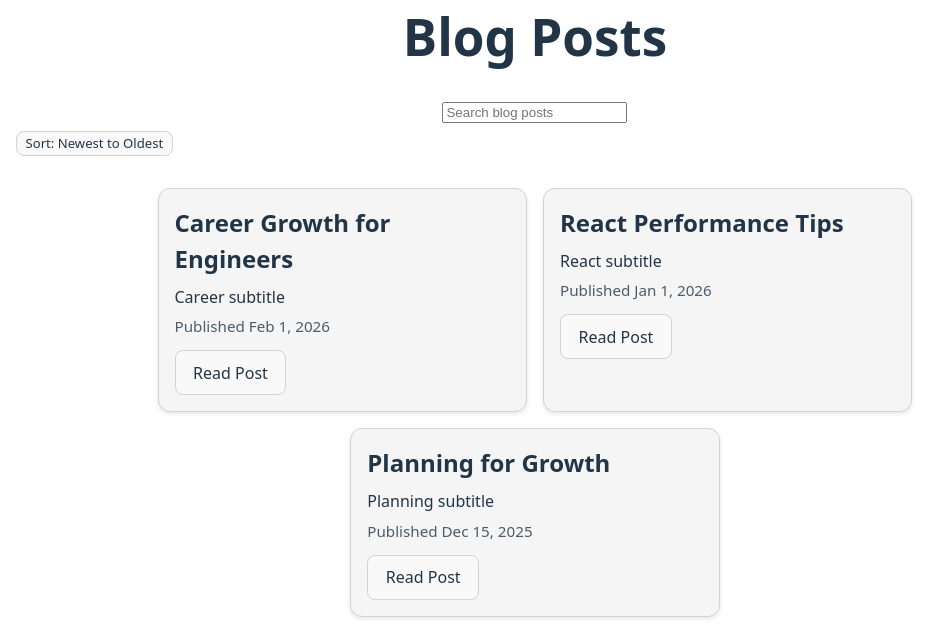
Test: Blog › sad path: shows no blog cards for a non-matching keyword
Type "does-not-exist" into the search field labelled "Search blog posts" at (535, 112), box x1=442 y1=102 x2=628 y2=123
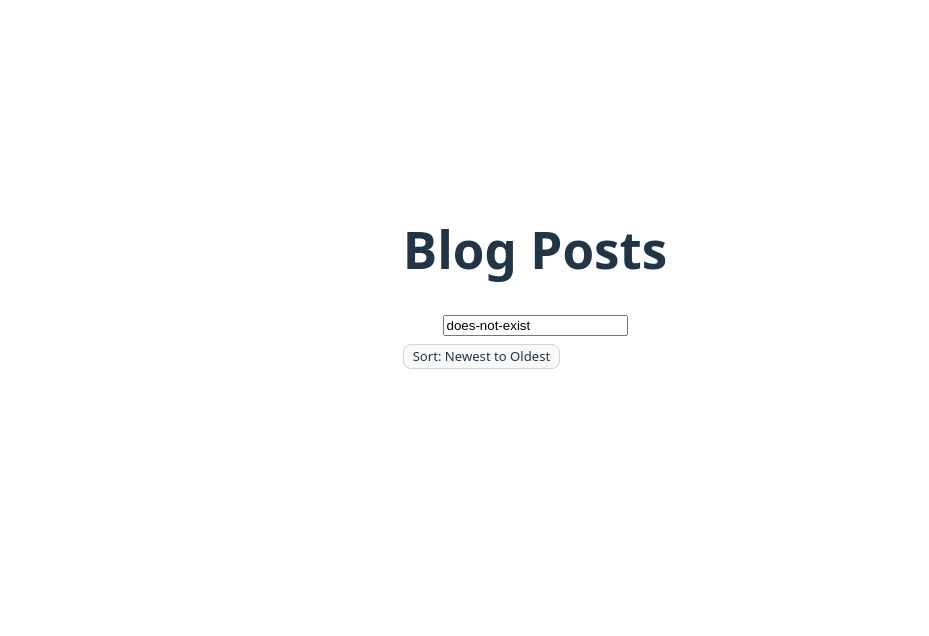
Check: no the heading "Career Growth for Engineers" are shown
